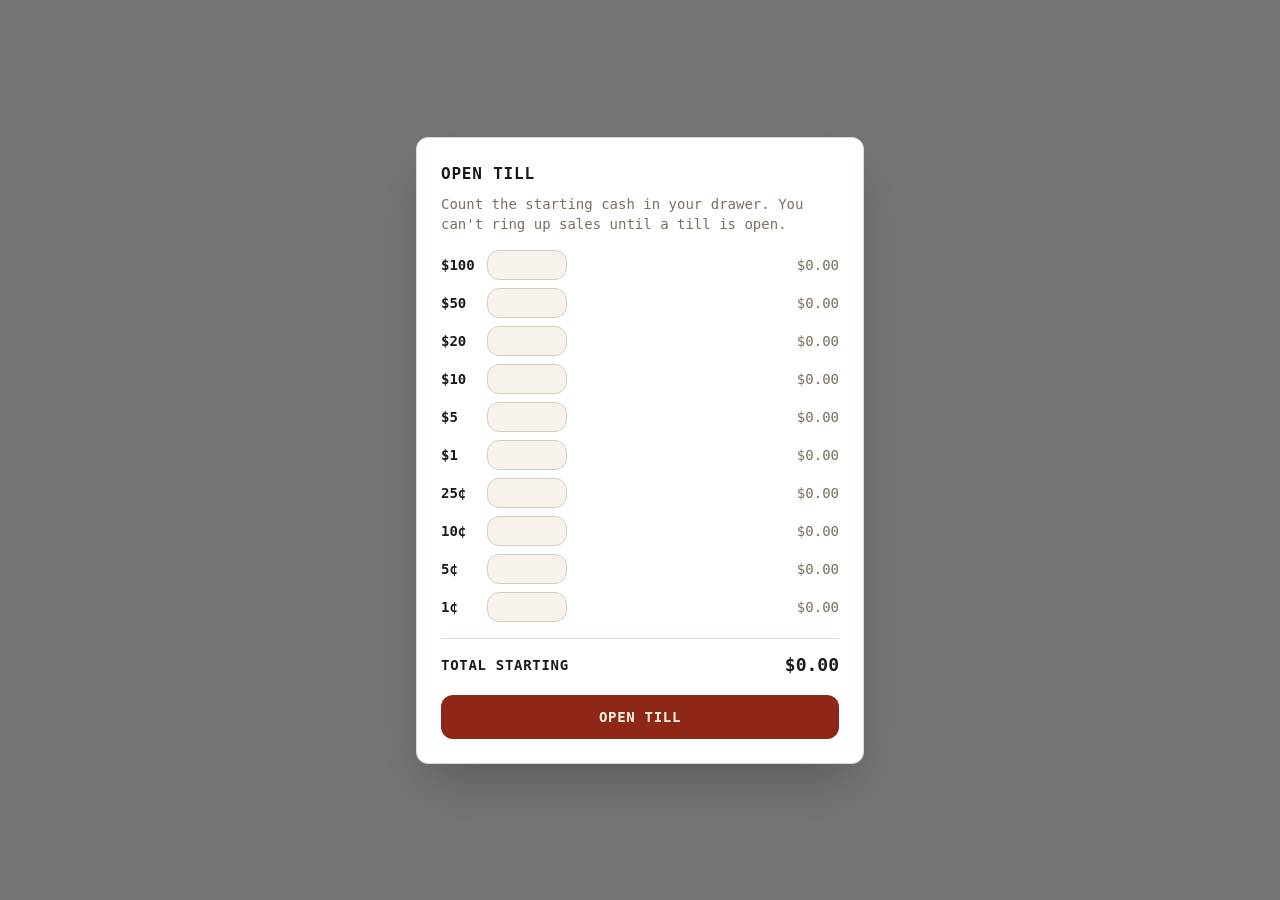
Test: <OpenTillModal> › computes the total live as the cashier types denominations
The width and height of the screenshot is (1280, 900).
Check: the text with test id "open-till-total" reads "$0.00", box x1=785 y1=654 x2=839 y2=674
Type "1" into the number field named "Count of $50" at (527, 302), box x1=487 y1=288 x2=567 y2=318
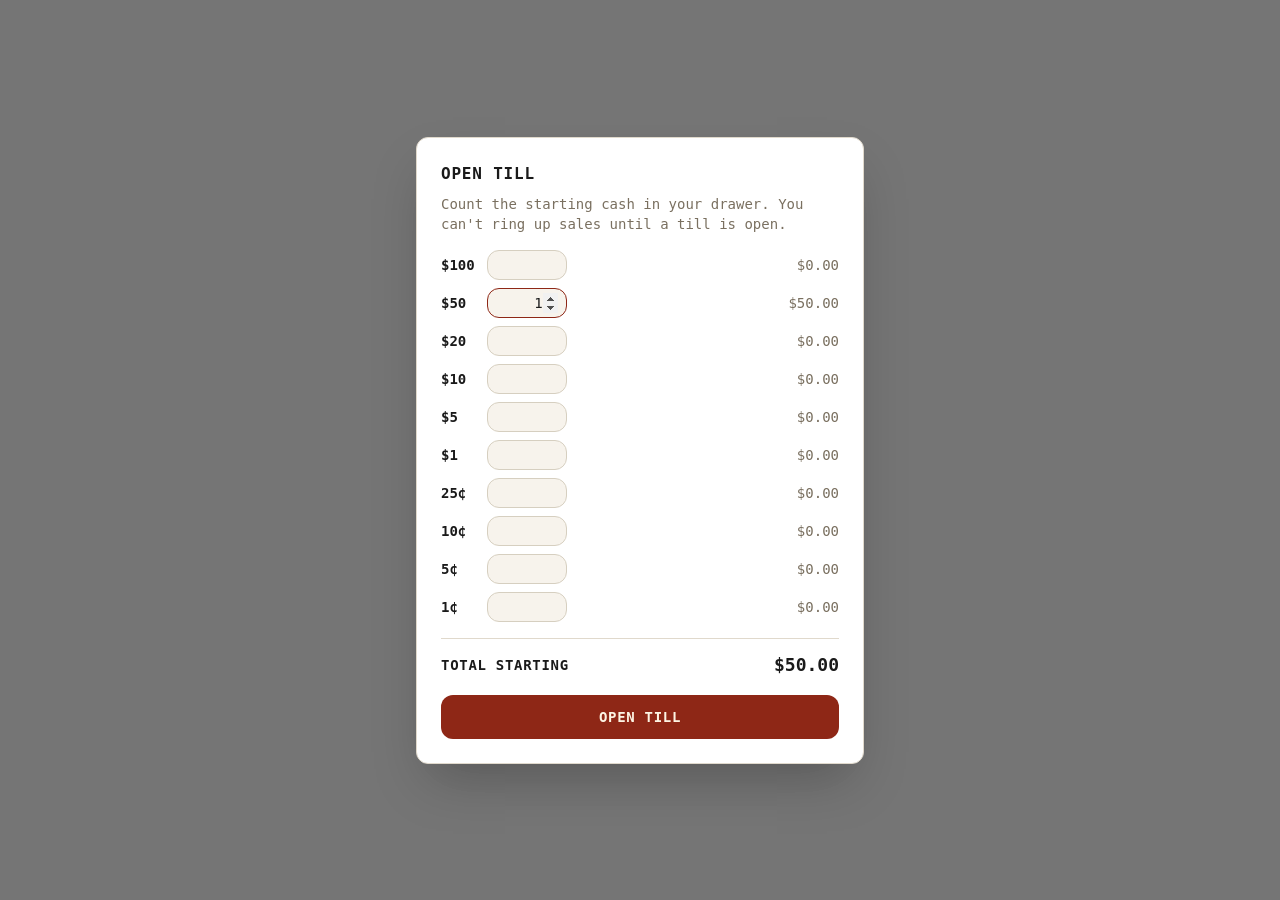
Type "5" into the number field named "Count of $20" at (527, 340), box x1=487 y1=326 x2=567 y2=356
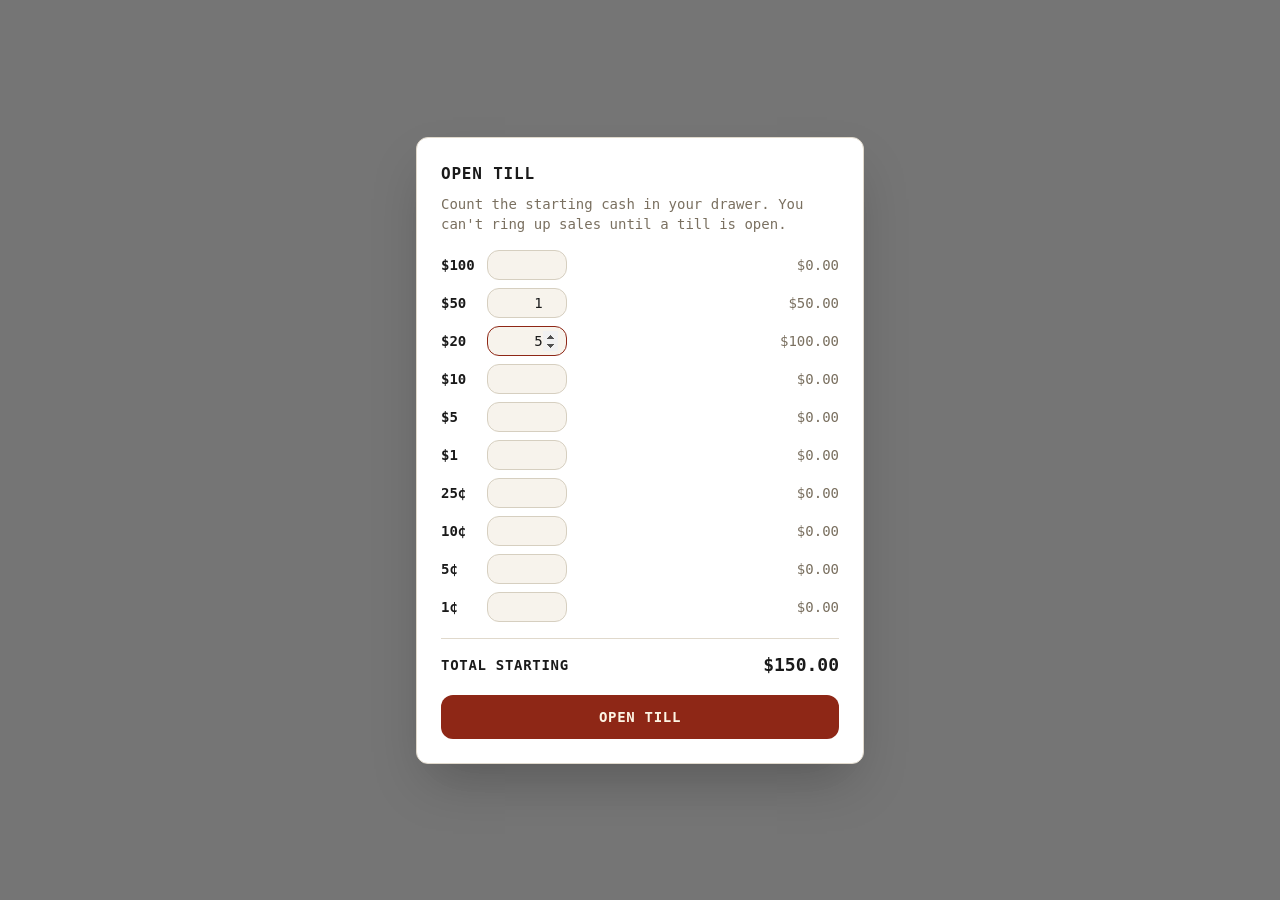
Type "4" into the number field named "Count of 25¢" at (527, 492), box x1=487 y1=478 x2=567 y2=508
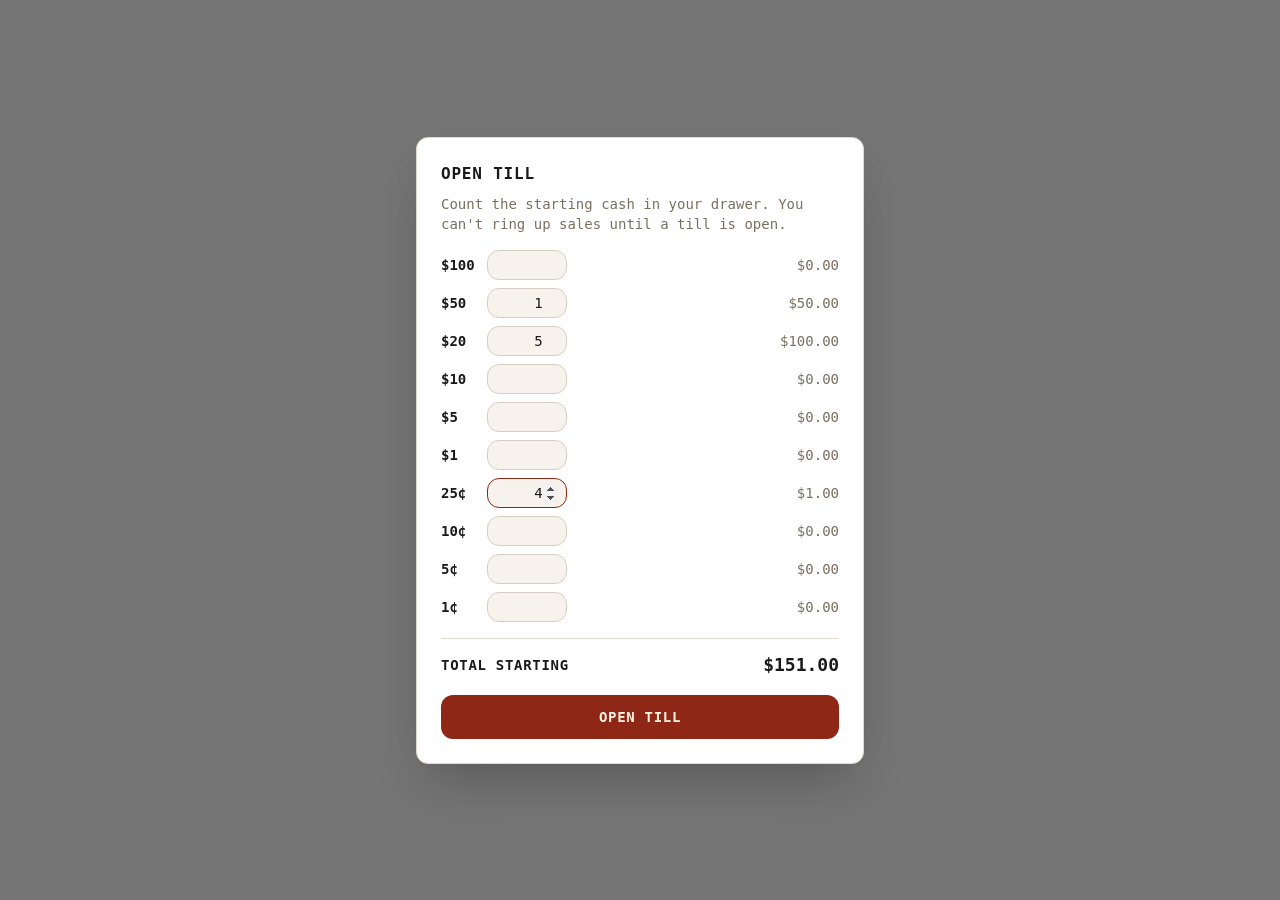
Check: the text with test id "open-till-total" reads "$151.00", box x1=763 y1=654 x2=839 y2=674
